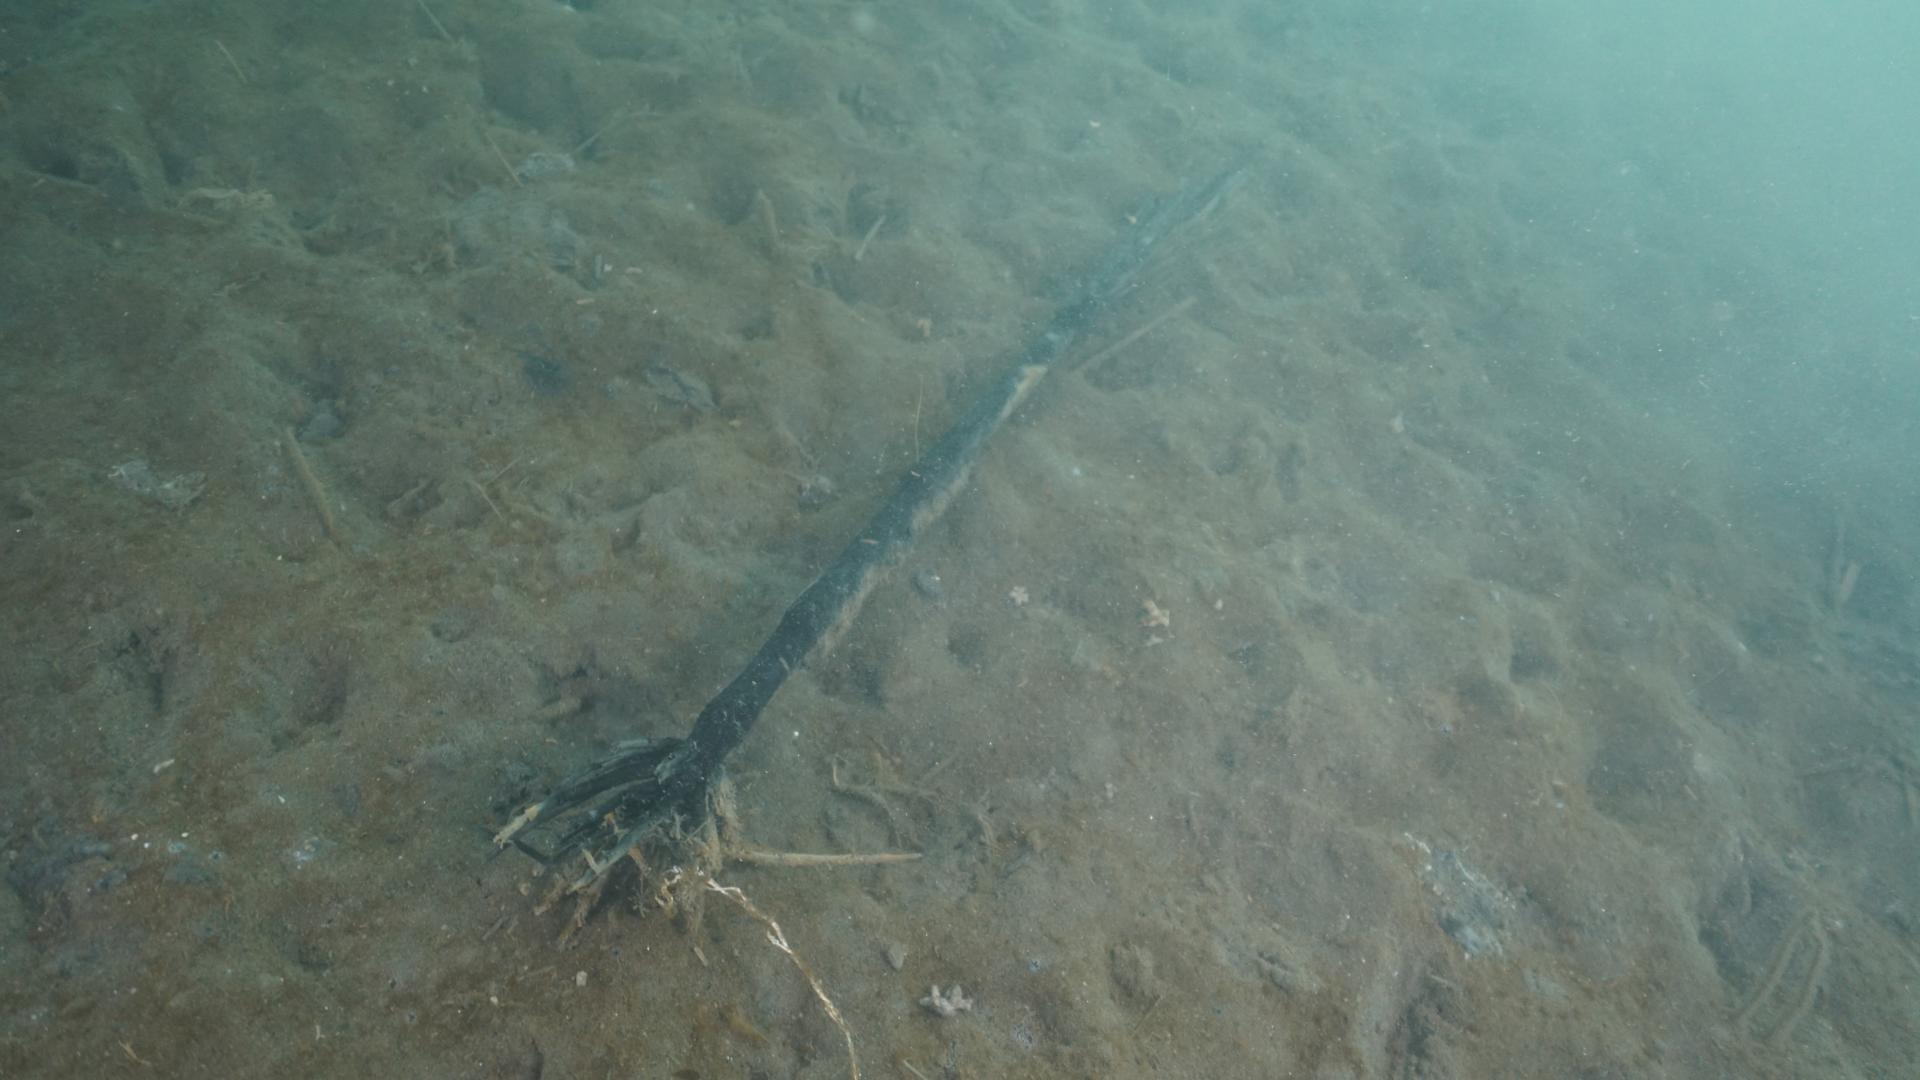wood: (491, 157, 1251, 909)
